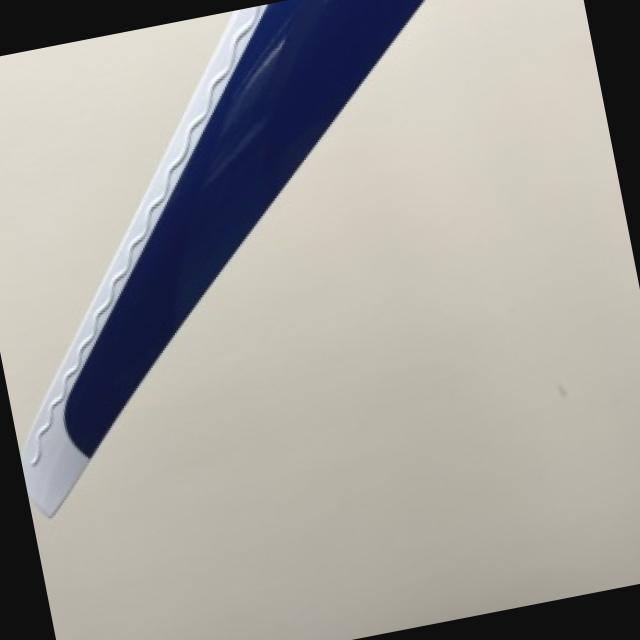healthy: (22, 0, 424, 514), (232, 280, 365, 394)
